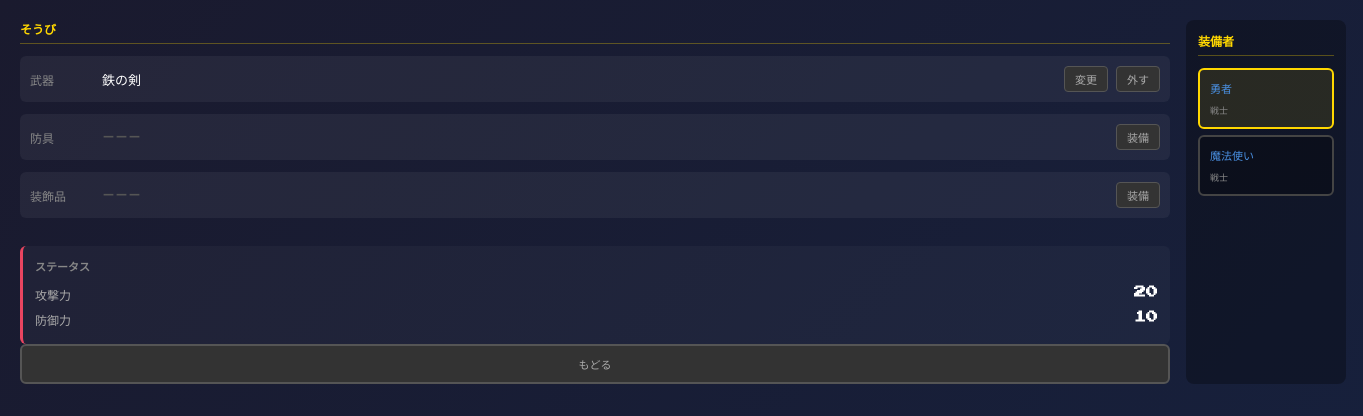
it: EquipmentPanel › 装備変更 › 装備可能アイテムがない場合メッセージが表示される
Step 1. Click the button "変更" → click(1086, 79), box [1064,66,1108,92]
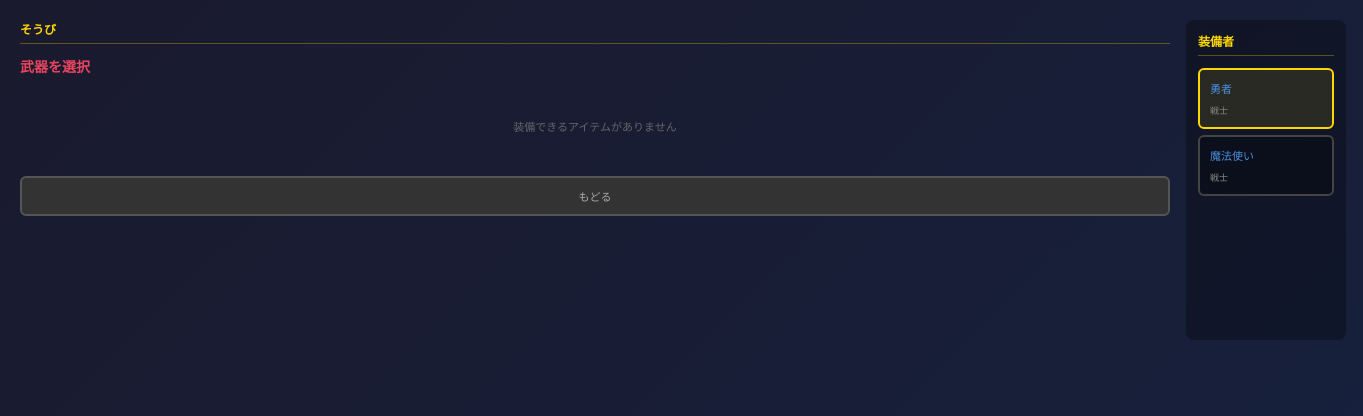
Expected: the text "装備できるアイテムがありません" is shown, [513,120,677,131]
